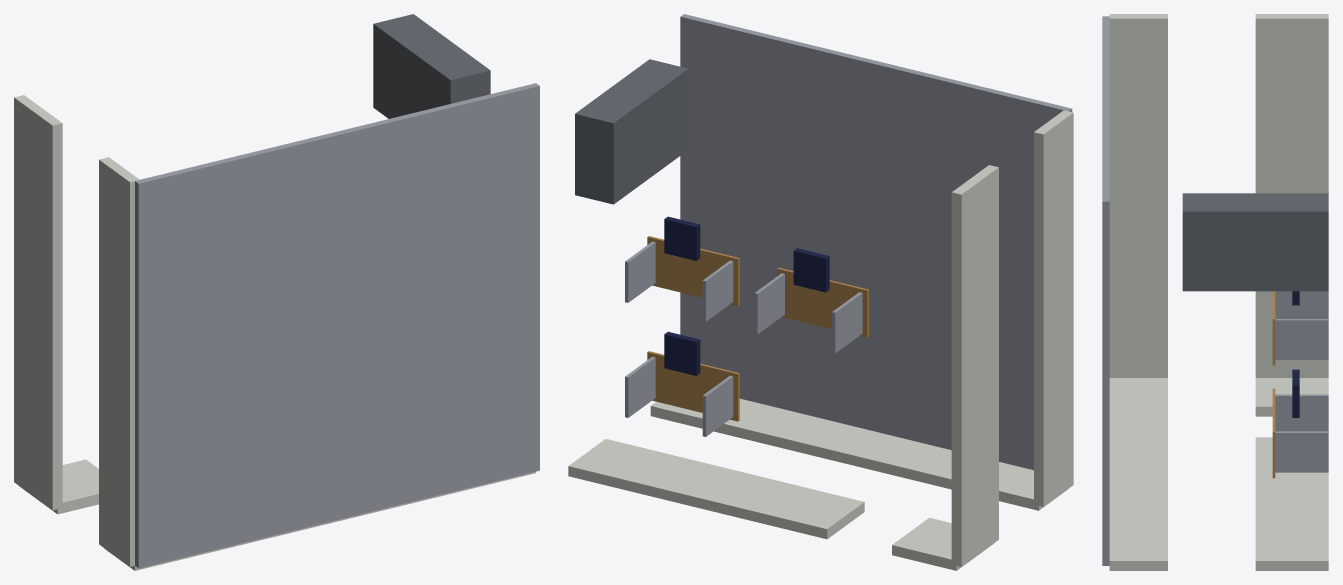
File: office.obj
3 renders of one model, left to right at view 1: azimuth 30°, elevation 25°; view 2: azimuth 150°, elevation 25°; view 3: azimuth 270°, elevation 25°, orthographic. The views are drawn at different scales.
Parts seen in each view (by area): view 1: steel, wall, crate_grey; view 2: steel, wall, crate_grey, wood, navy; view 3: wall, crate_grey, steel, wood, navy.
Boxes of the visible parts, x1,y1,x2,y2 form: steel: [135, 83, 539, 568]; wall: [14, 95, 535, 570]; crate_grey: [373, 14, 490, 118]; steel: [625, 14, 1072, 470]; wall: [568, 110, 1073, 570]; crate_grey: [575, 59, 688, 204]; wood: [647, 236, 868, 421]; navy: [664, 216, 829, 375]; wall: [1109, 14, 1328, 570]; crate_grey: [1182, 193, 1328, 291]; steel: [1102, 16, 1328, 565]; wood: [1272, 291, 1275, 478]; navy: [1292, 291, 1299, 417].
Bounding box in the file's own units: 6.07 × 5.57 × 3.1.
